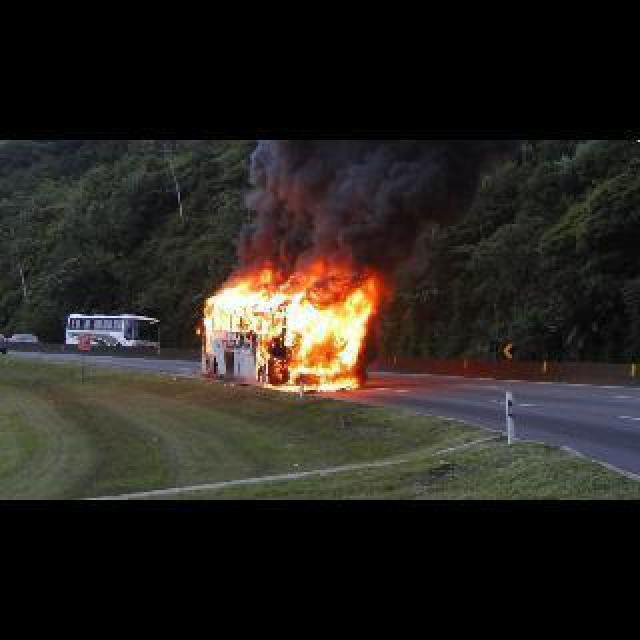fire: (191, 271, 383, 394)
